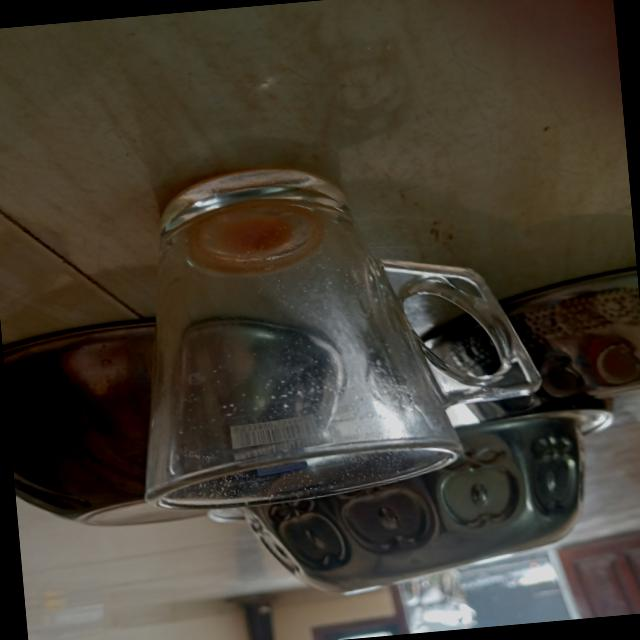glass-VX4N: (112, 145, 549, 510)
